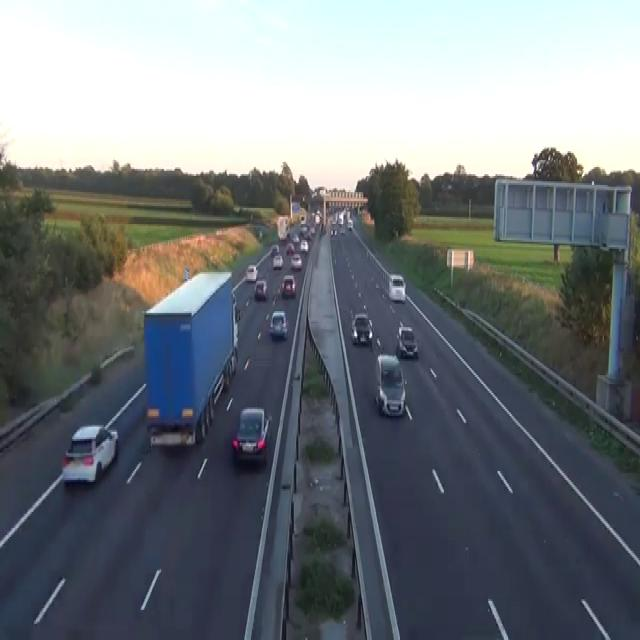Car: (61, 423, 118, 485), (231, 407, 272, 462), (375, 354, 406, 416), (350, 311, 373, 347), (395, 325, 418, 359), (269, 309, 288, 338), (388, 274, 406, 302), (279, 274, 296, 297), (254, 279, 267, 301), (231, 292, 240, 322), (90, 361, 101, 382), (245, 263, 257, 281), (290, 252, 302, 270), (272, 254, 283, 268), (270, 244, 279, 256), (285, 242, 294, 254), (300, 240, 308, 252), (319, 222, 325, 235), (292, 231, 299, 242), (346, 219, 353, 229), (330, 226, 337, 236), (235, 306, 240, 320), (337, 215, 343, 226), (233, 204, 240, 213), (245, 295, 250, 306), (300, 215, 305, 224), (340, 226, 345, 234)
Truck: (142, 268, 239, 448), (277, 215, 290, 240)
